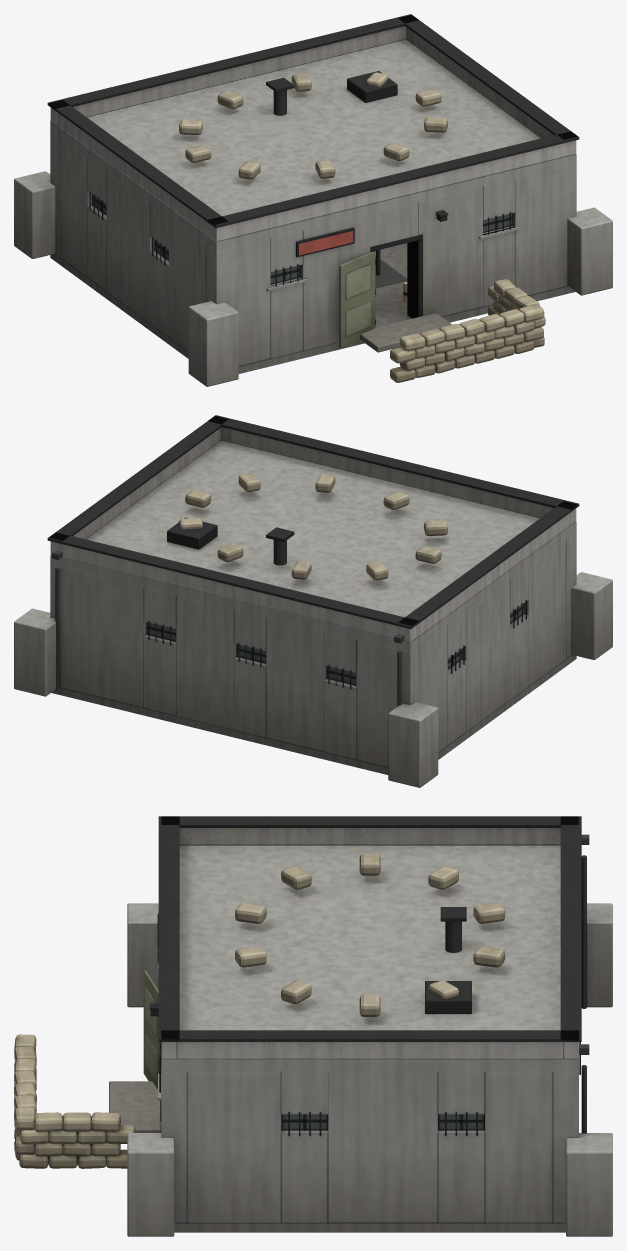
The model's file is bldC.glb.
3 views of the same model, one above another, from view 1: azimuth 30°, elevation 25°; view 2: azimuth 150°, elevation 25°; view 3: azimuth 270°, elevation 25° (orthographic). The views are drawn at different scales.
Visible parts, largest first — view 1: BldC_Shell, BldC_Roof, BldC_Interior; view 2: BldC_Shell, BldC_Roof; view 3: BldC_Roof, BldC_Shell.
Part boxes in pixels (bbox=[...]): BldC_Shell: bbox=[14, 130, 612, 386]; BldC_Roof: bbox=[47, 14, 579, 251]; BldC_Interior: bbox=[375, 249, 407, 303]; BldC_Shell: bbox=[14, 531, 612, 787]; BldC_Roof: bbox=[47, 415, 579, 652]; BldC_Roof: bbox=[158, 816, 581, 1071]; BldC_Shell: bbox=[14, 834, 612, 1236].
Bounding box in the file's own units: 11.3 × 4.43 × 11.47.
3 materials, 3 textured.
